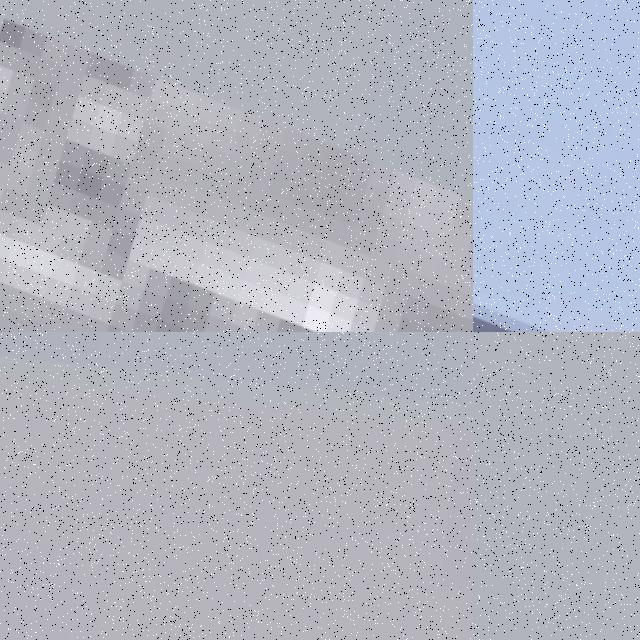drone: (0, 0, 473, 332), (473, 0, 640, 332)
